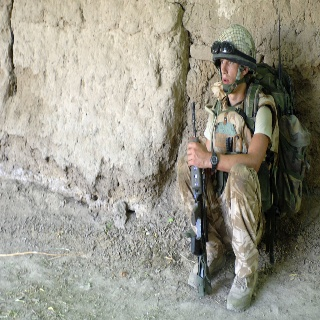rifle: (182, 99, 217, 298)
